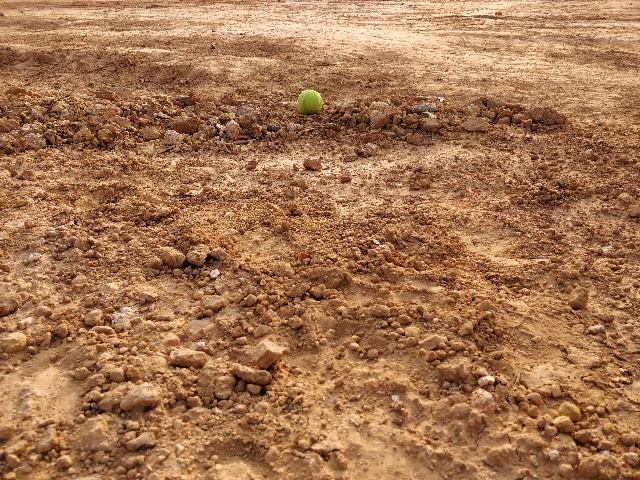ball: (294, 87, 325, 117)
